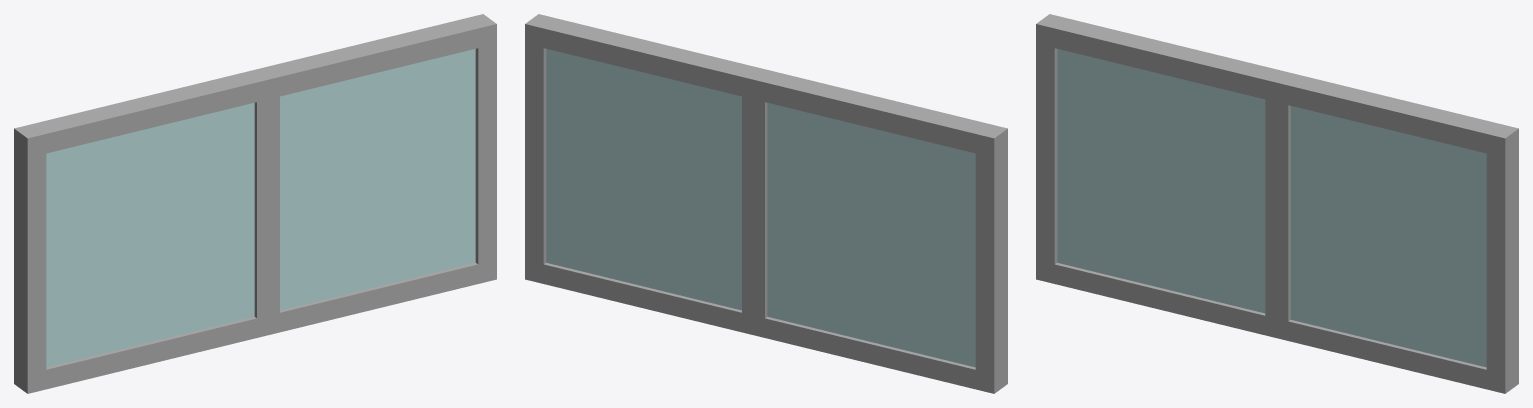
The model's file is Window.fbx.
3 renders of one model, left to right at view 1: azimuth 30°, elevation 25°; view 2: azimuth 150°, elevation 25°; view 3: azimuth 330°, elevation 25°, orthographic.
Parts seen in each view (by area): view 1: Cube.004; view 2: Cube.004; view 3: Cube.004.
Boxes of the visible parts, bbox=[...] form: Cube.004: bbox=[14, 14, 496, 393]; Cube.004: bbox=[525, 14, 1007, 393]; Cube.004: bbox=[1036, 14, 1518, 393].
Bounding box in the file's own units: 459 × 239 × 23.1.
